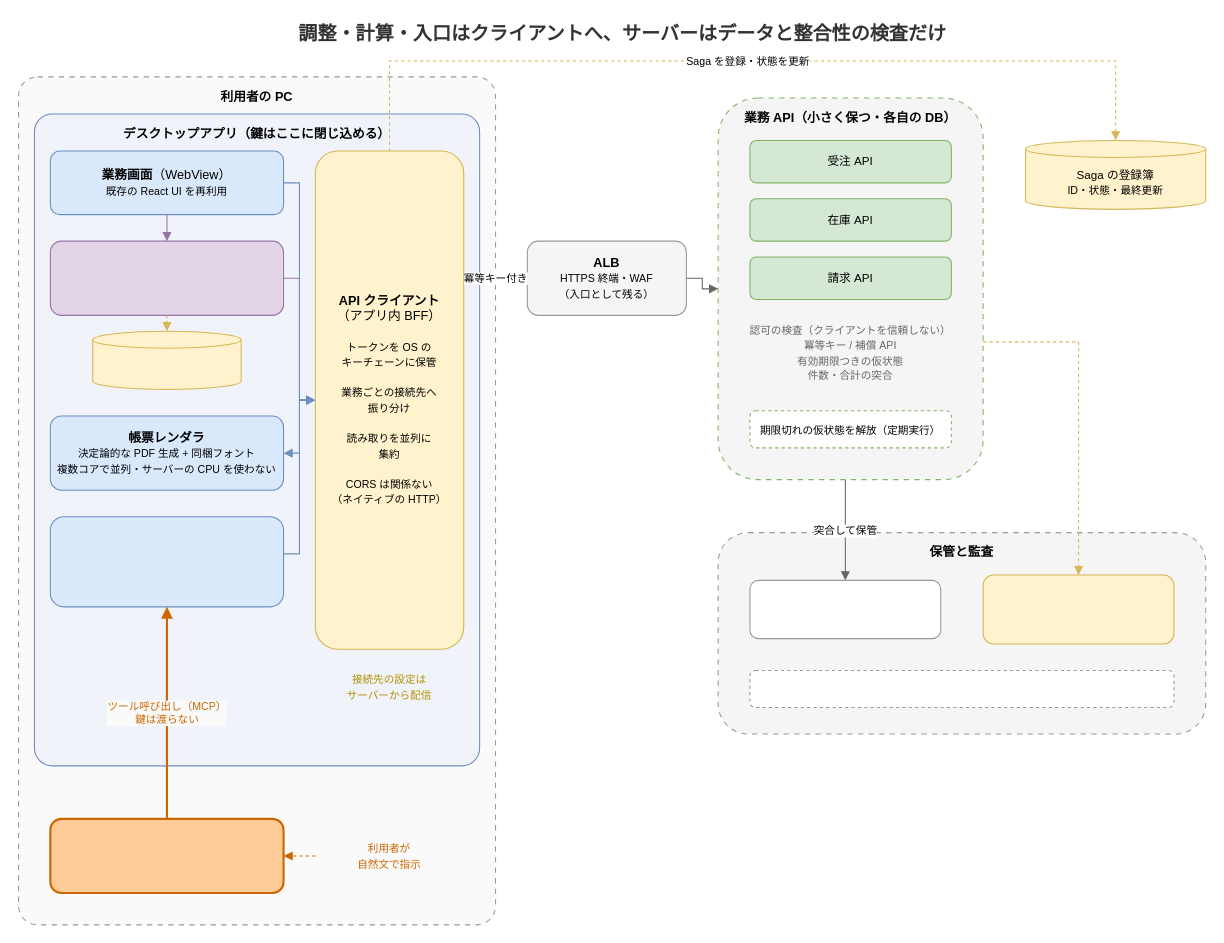
Some shapes in this 1224 by 943 pixel diagram are drawn without their labels. Each missing label, with the centre of its shape:
"AI エージェント Claude Desktop など 鍵を持たない・ツールだけを使う" belongs at point 166,855.
"MCP サーバー （アプリ内） 業務の操作をツールとして公開 更新系は画面で利用者が確認 ソースの検索（ヘルプの代わり）" belongs at point 166,561.
"S3 帳票 PDF（バージョニング）" belongs at point 845,609.
"Saga ランナー 順に呼ぶ・失敗したら補償 再起動しても続きから再開" belongs at point 166,277.
"Saga ログ ローカル DB（SQLite 等）" belongs at point 166,360.
"無人の夜間バッチだけ SQS + ワーカー" belongs at point 961,688.
"監査ログ 誰が・いつ・どの版で （エージェント経由かも記録）" belongs at point 1078,609.
